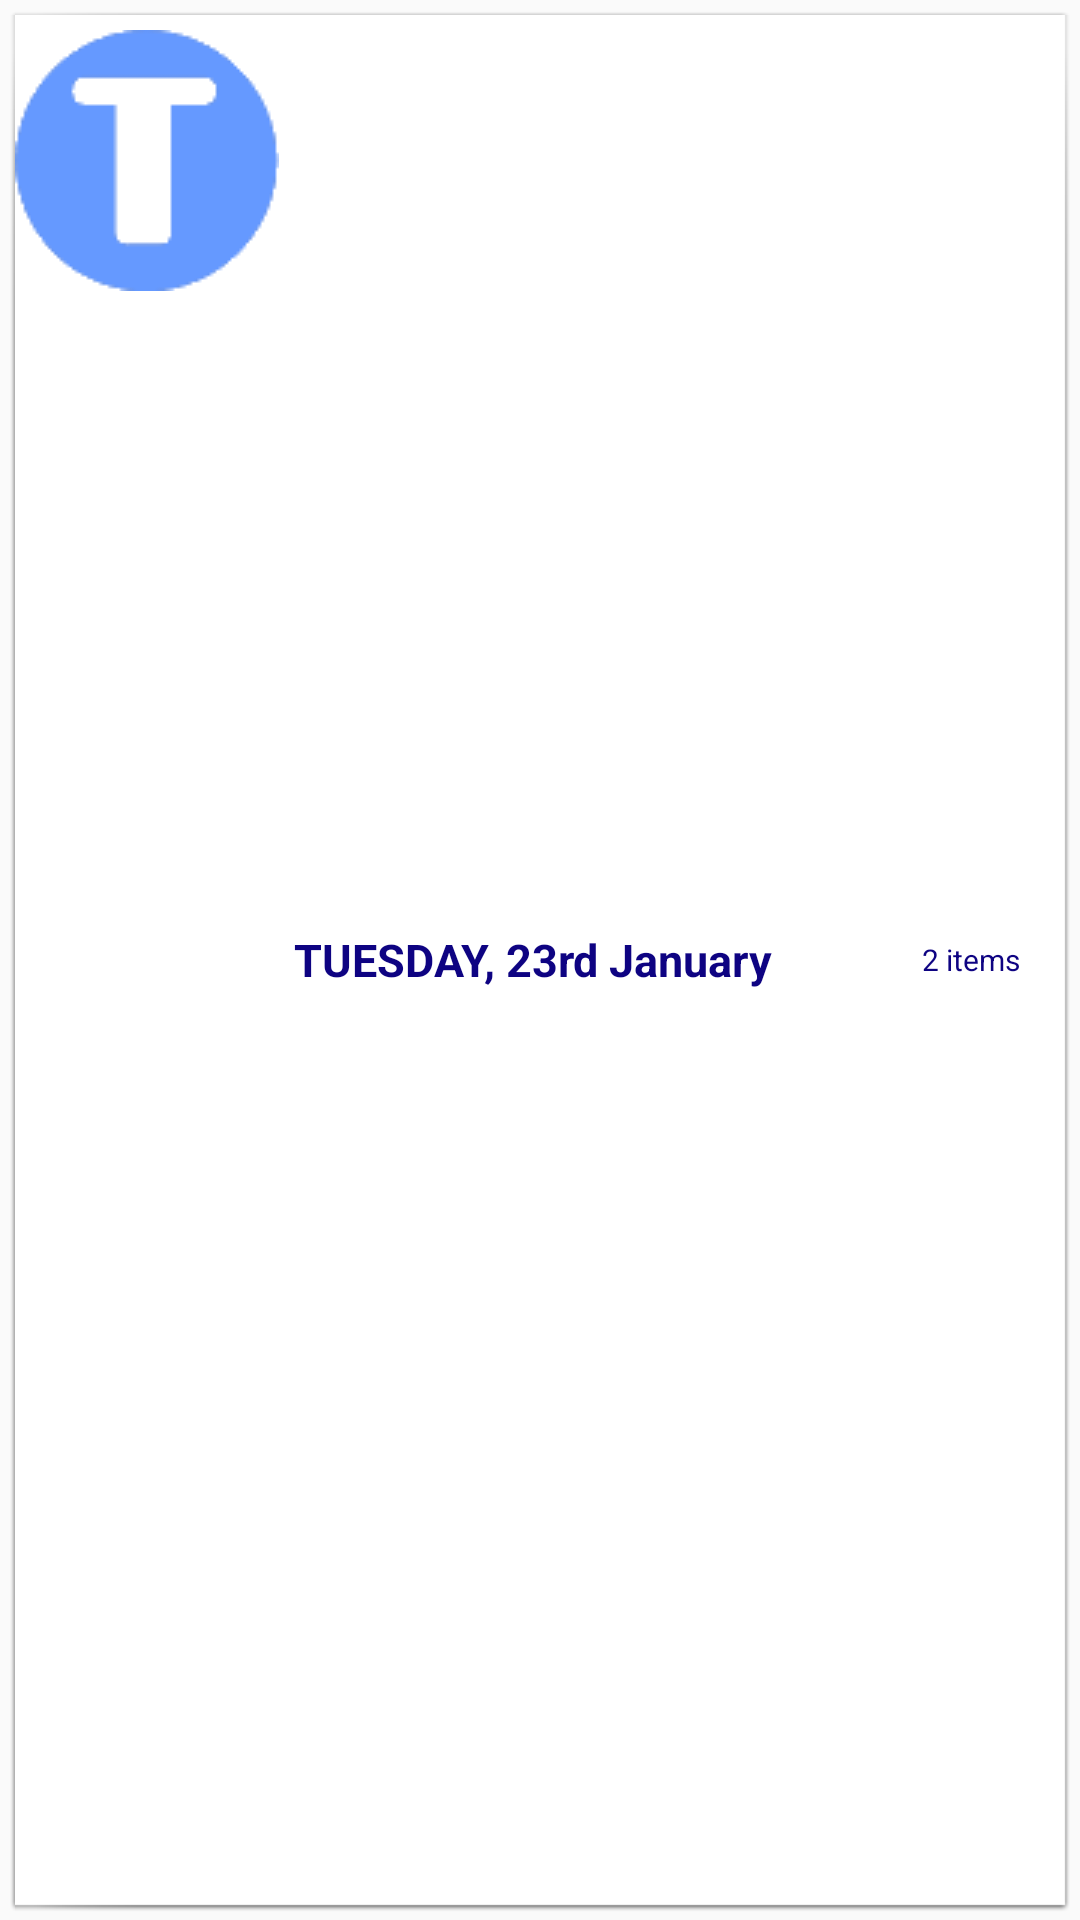

Icon bounding boxes for this 1080 x 1920 phone screenshot, format (x1, y1, x2, y2):
tuesday: (15, 30, 279, 291)
